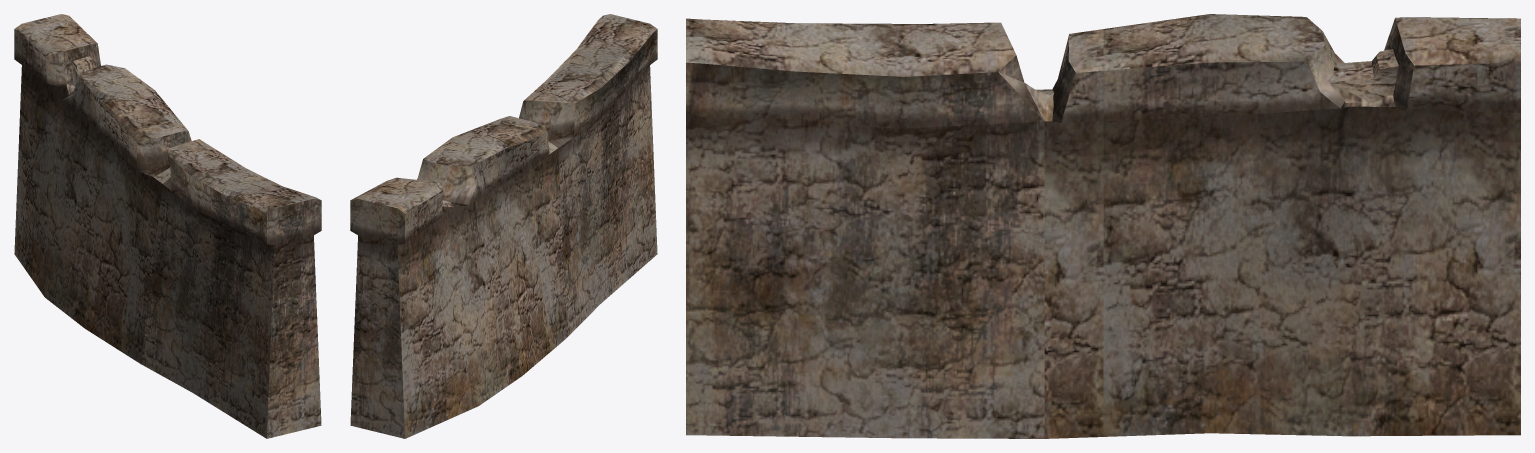
File: MWalA1.glb
3 renders of one model, left to right at view 1: azimuth 30°, elevation 25°; view 2: azimuth 150°, elevation 25°; view 3: azimuth 270°, elevation 25°, orthographic. The views are drawn at different scales.
Parts seen in each view (by area): view 1: _MWalA1; view 2: _MWalA1; view 3: _MWalA1.
Part boxes in pixels (x1=…): _MWalA1: x1=14, y1=14, x2=321, y2=438; _MWalA1: x1=350, y1=14, x2=657, y2=438; _MWalA1: x1=686, y1=14, x2=1520, y2=438.
Bounding box in the file's own units: 1.52 × 4 × 8.
Materials: 1 (1 with a texture image).
